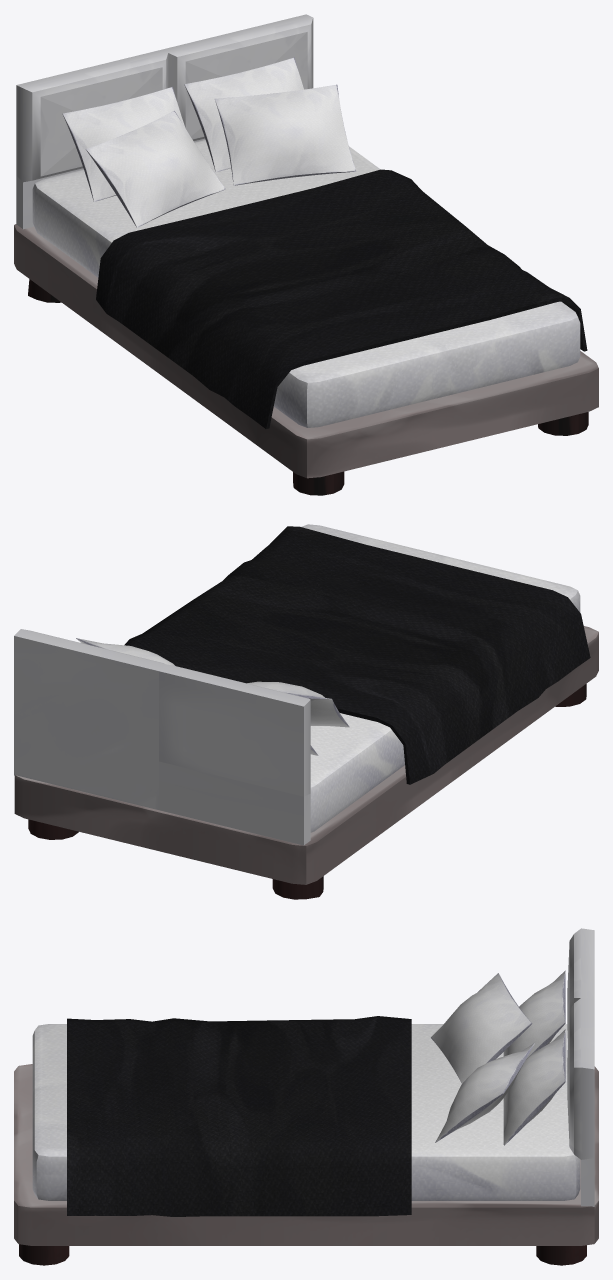
The model's file is bed F.fbx.
3 renders of one model, top to bottom at view 1: azimuth 30°, elevation 25°; view 2: azimuth 150°, elevation 25°; view 3: azimuth 270°, elevation 25°, orthographic.
Parts seen in each view (by area): view 1: Object002, Object003; view 2: Object002, Object003; view 3: Object002, Object003.
Boxes of the visible parts, x1,y1,x2,y2 form: Object002: [32, 57, 587, 428]; Object003: [14, 14, 598, 495]; Object002: [76, 524, 590, 832]; Object003: [14, 626, 598, 899]; Object002: [32, 970, 580, 1216]; Object003: [14, 928, 598, 1265].
Bounding box in the file's own units: 58.58 × 34.74 × 92.76.
